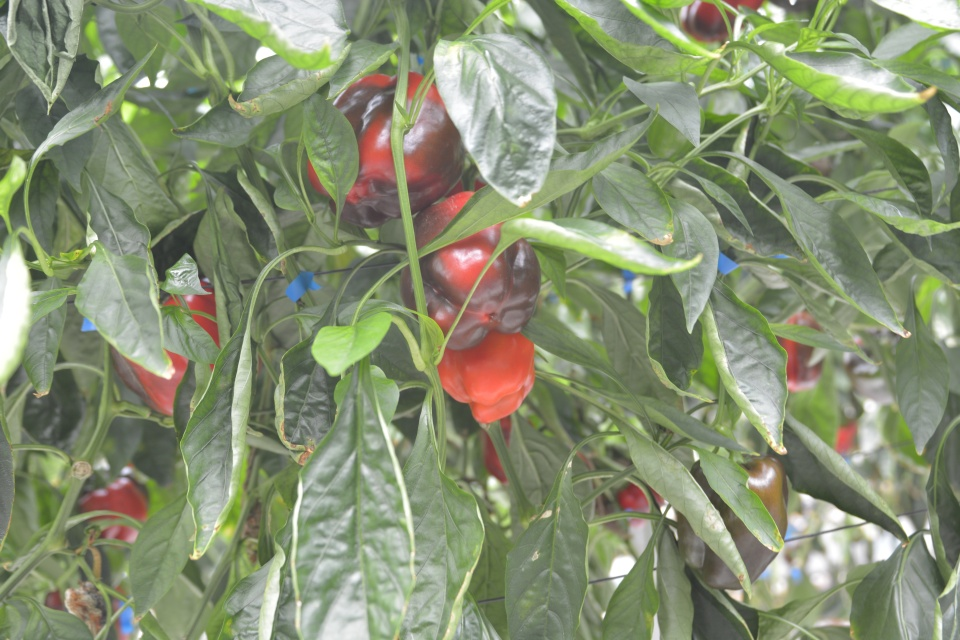fruit: (304, 73, 466, 230), (396, 188, 543, 352), (676, 448, 792, 596), (106, 277, 221, 417), (436, 327, 537, 424), (73, 476, 148, 547), (773, 308, 826, 384), (675, 0, 764, 44)
